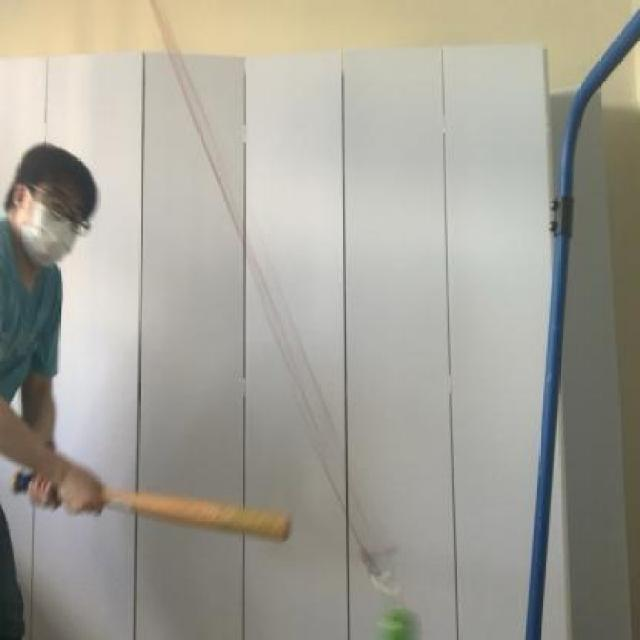baseball: (368, 592, 429, 640)
